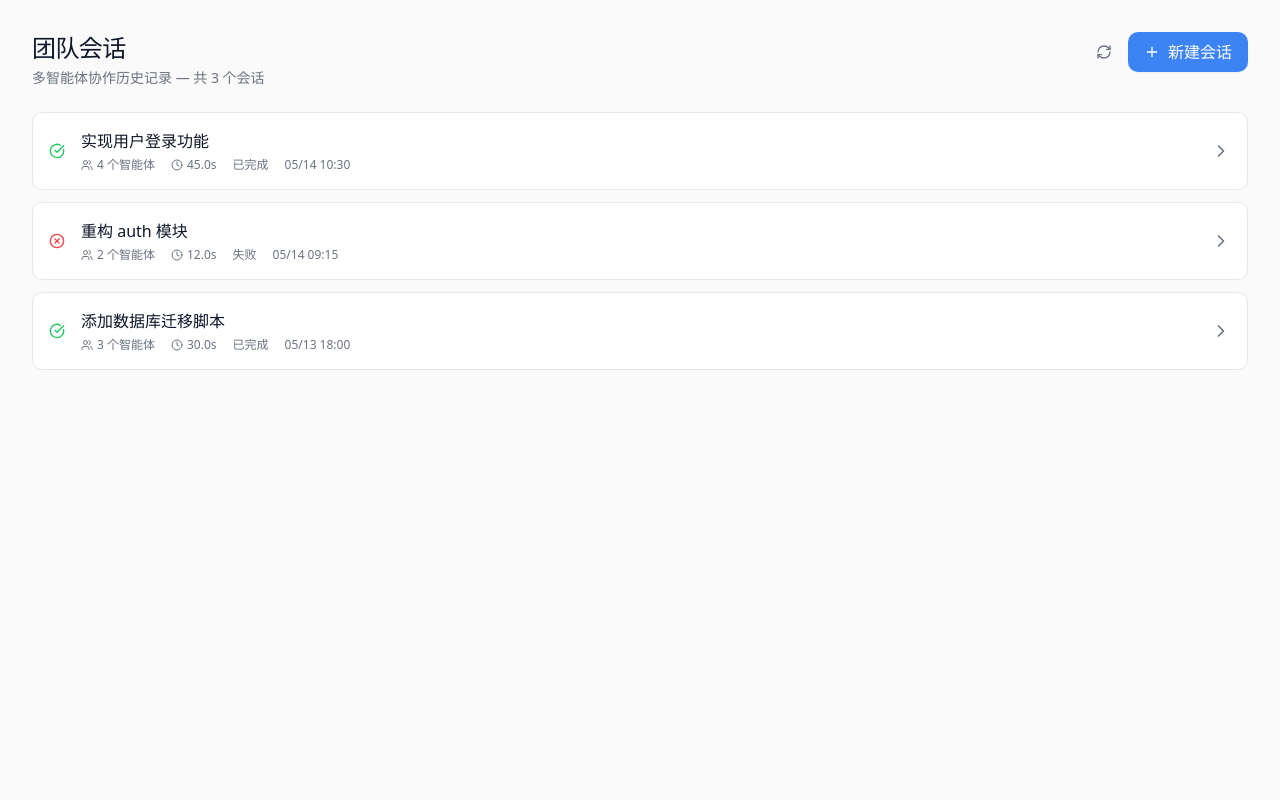
Test: TeamSessionsPage › detail modal › opens detail modal on session click
The width and height of the screenshot is (1280, 800).
Click the session
Click the text "实现用户登录功能" at (145, 141), box [81, 130, 209, 152]
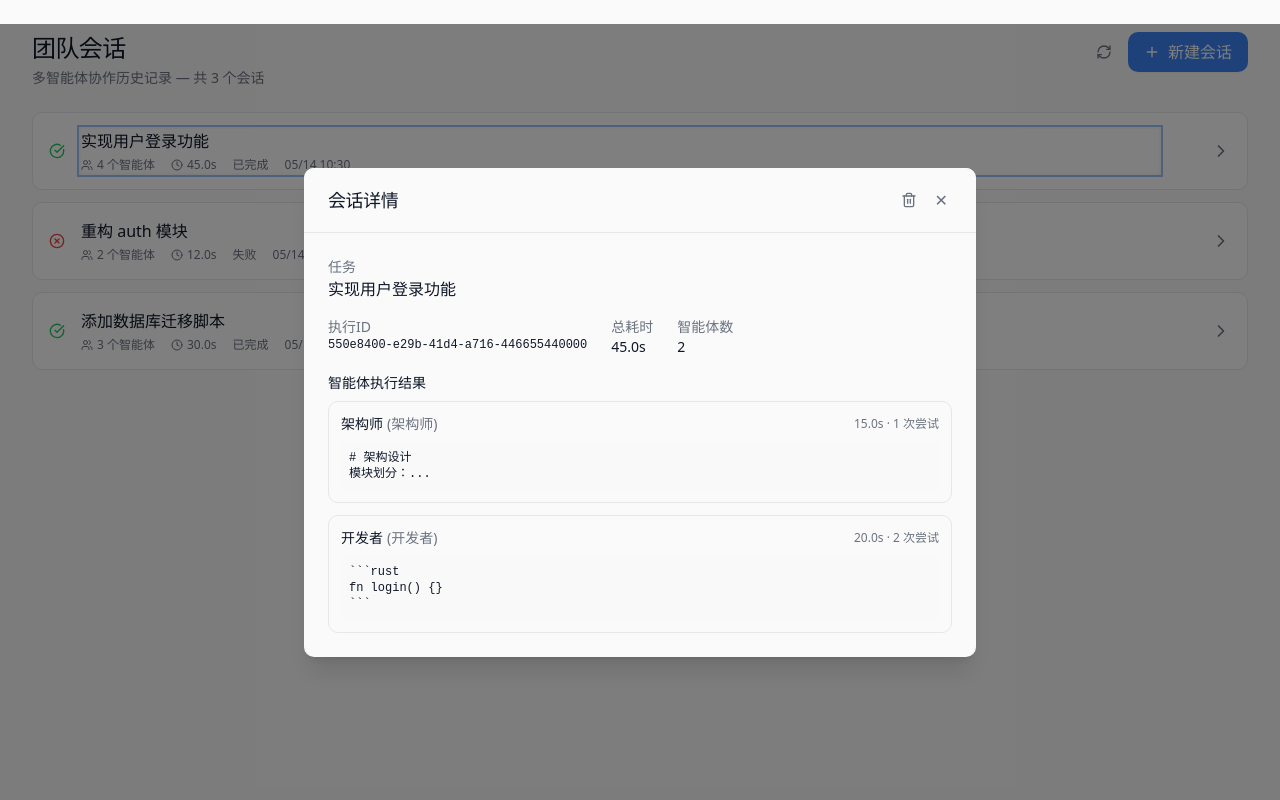
Result: the heading "会话详情" is shown at [328, 186, 398, 214]
